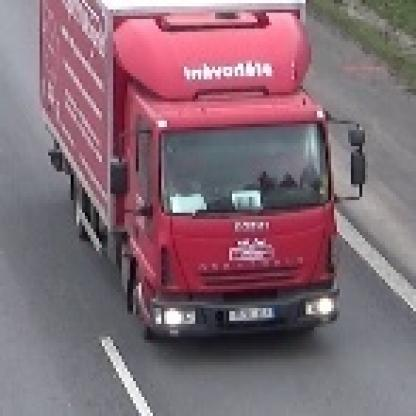truck: (38, 1, 366, 344)
